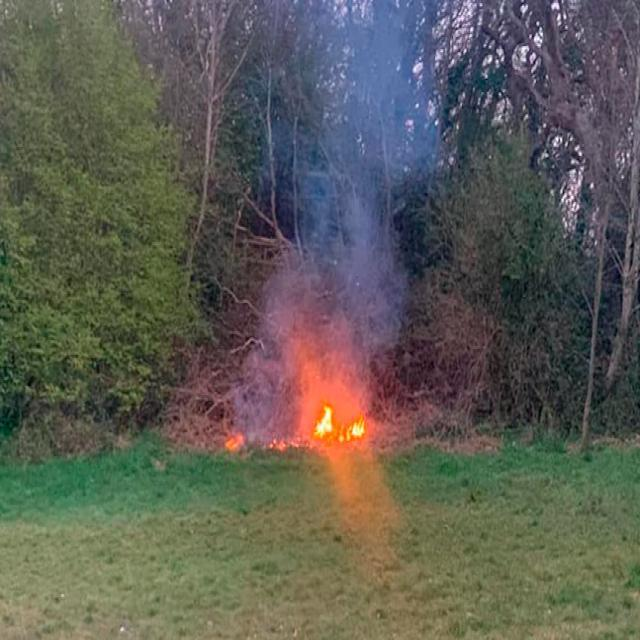Fire: (289, 338, 382, 465), (216, 410, 300, 456)
Smoke: (268, 6, 452, 326)
